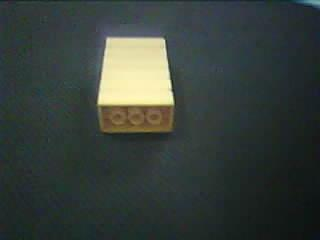lego: (95, 35, 175, 134)
